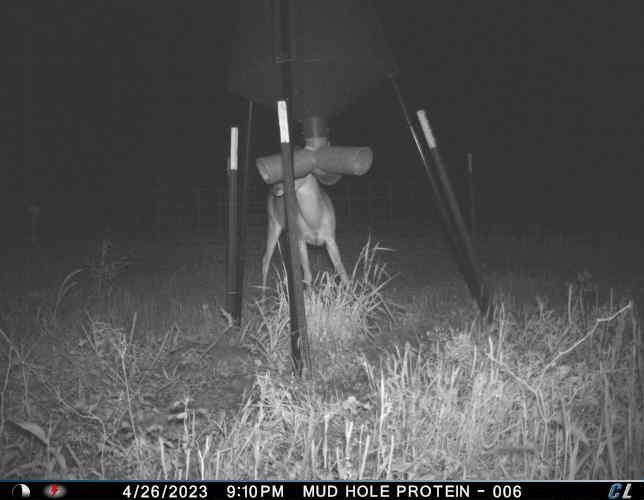Deer: (254, 149, 362, 310)
